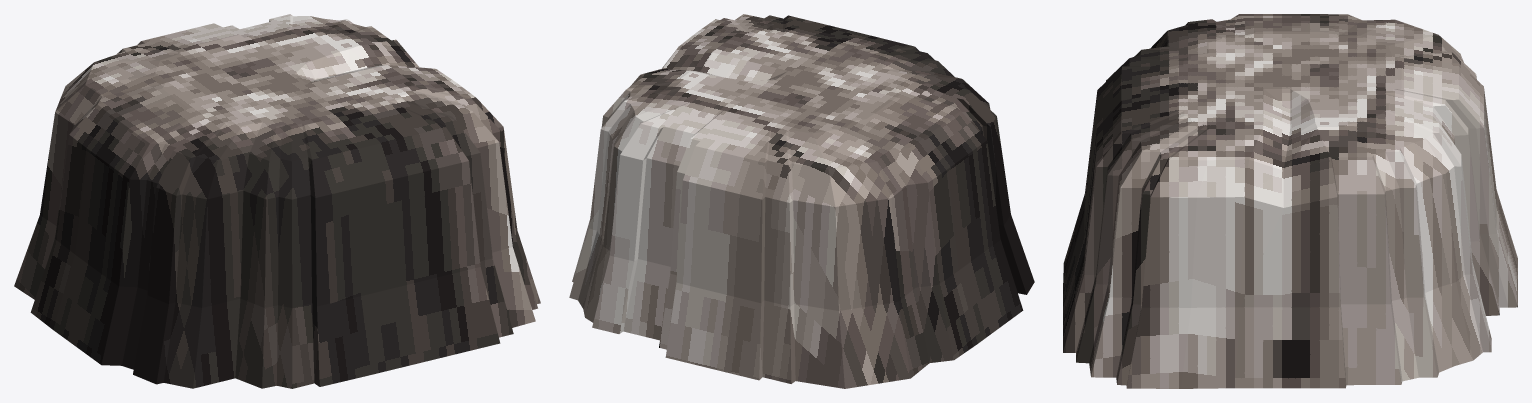
File: boulder_343x0.gltf
3 views of the same model, side by side, from view 1: azimuth 30°, elevation 25°; view 2: azimuth 150°, elevation 25°; view 3: azimuth 270°, elevation 25° (orthographic). The views are drawn at different scales.
Parts seen in each view (by area): view 1: Boulder_343x0; view 2: Boulder_343x0; view 3: Boulder_343x0.
Part boxes in pixels (x1,y1,x2,y2): Boulder_343x0: [14, 14, 540, 388]; Boulder_343x0: [569, 14, 1034, 388]; Boulder_343x0: [1063, 14, 1517, 388].
Size of the model in its own units: 4.5 by 2.3 by 4.39.
1 material, 1 textured.
